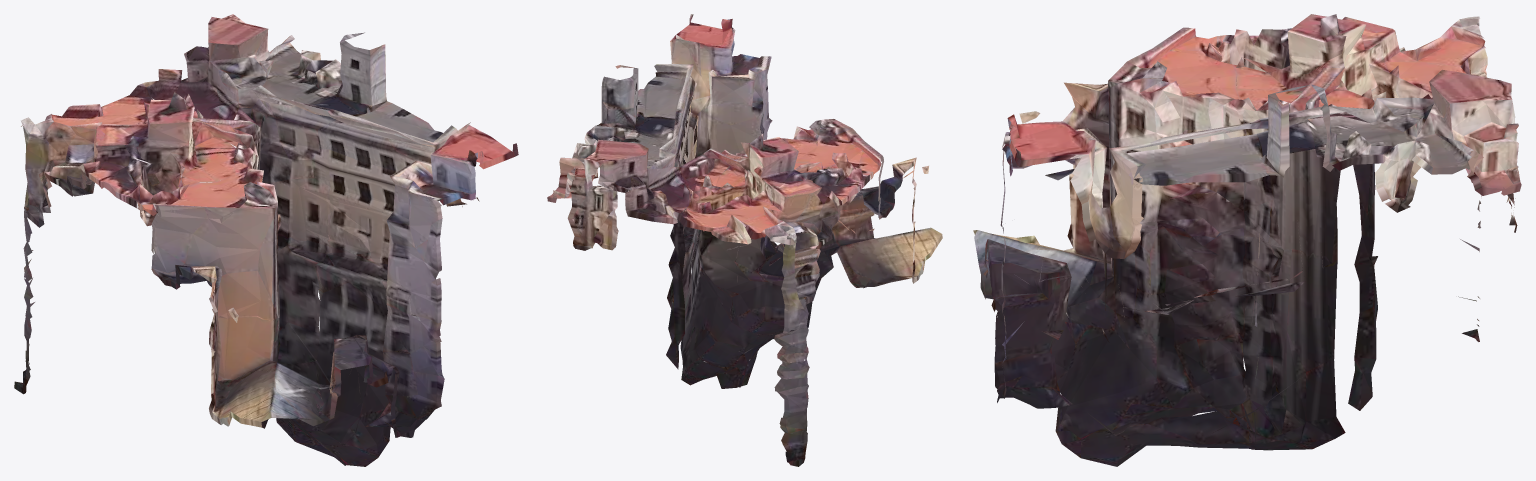
3 views of the same model, side by side, from view 1: azimuth 30°, elevation 25°; view 2: azimuth 150°, elevation 25°; view 3: azimuth 270°, elevation 25° (orthographic). The views are drawn at different scales.
Visible parts, largest first — view 1: Mesh_0; view 2: Mesh_0; view 3: Mesh_0.
Boxes of the visible parts, x1,y1,x2,y2 form: Mesh_0: (14,14,518,466); Mesh_0: (547,14,942,466); Mesh_0: (973,14,1521,466).
Size of the model in its own units: 33.74 by 35.37 by 41.46.
Materials: 1 (1 with a texture image).
